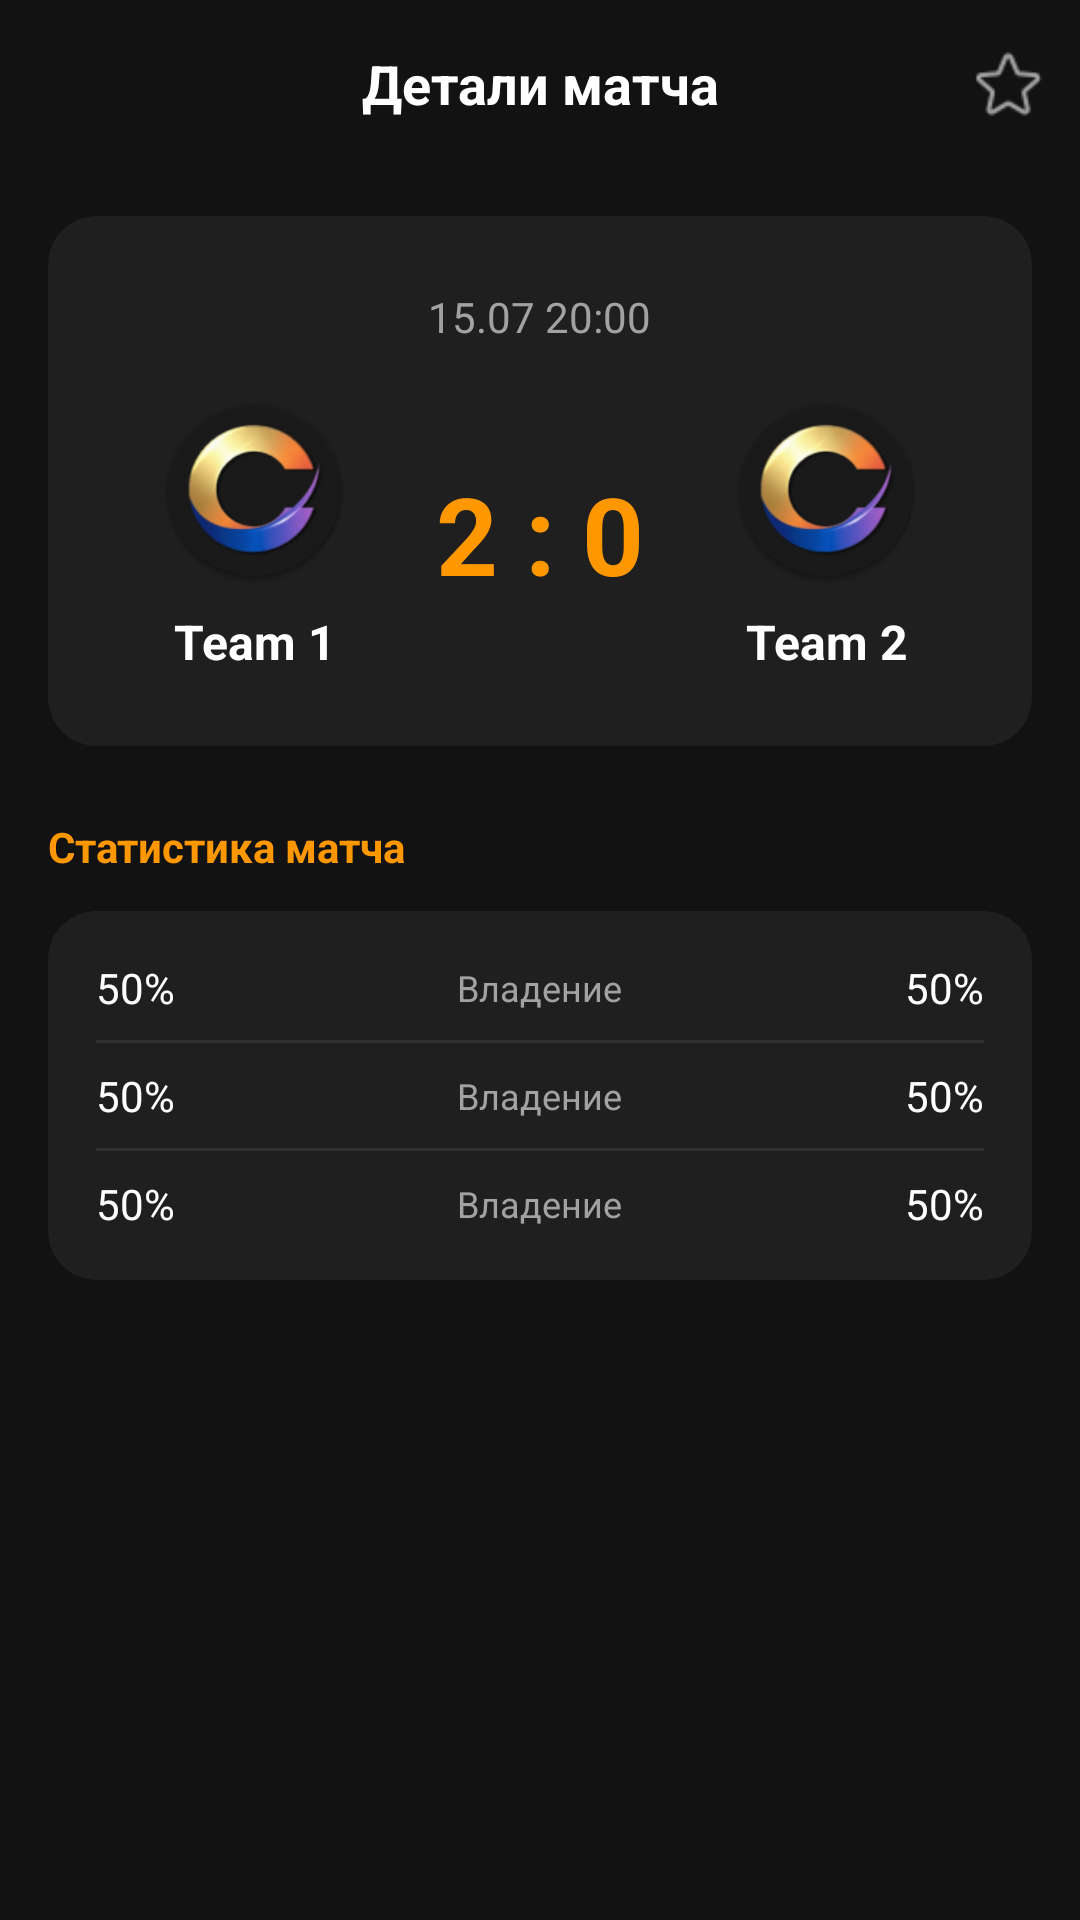

Named icons in this screenshot (1080 × 1920) and their bounding boxes, box(x1, y1, x2, y2):
Favorite: box(976, 52, 1041, 116)
